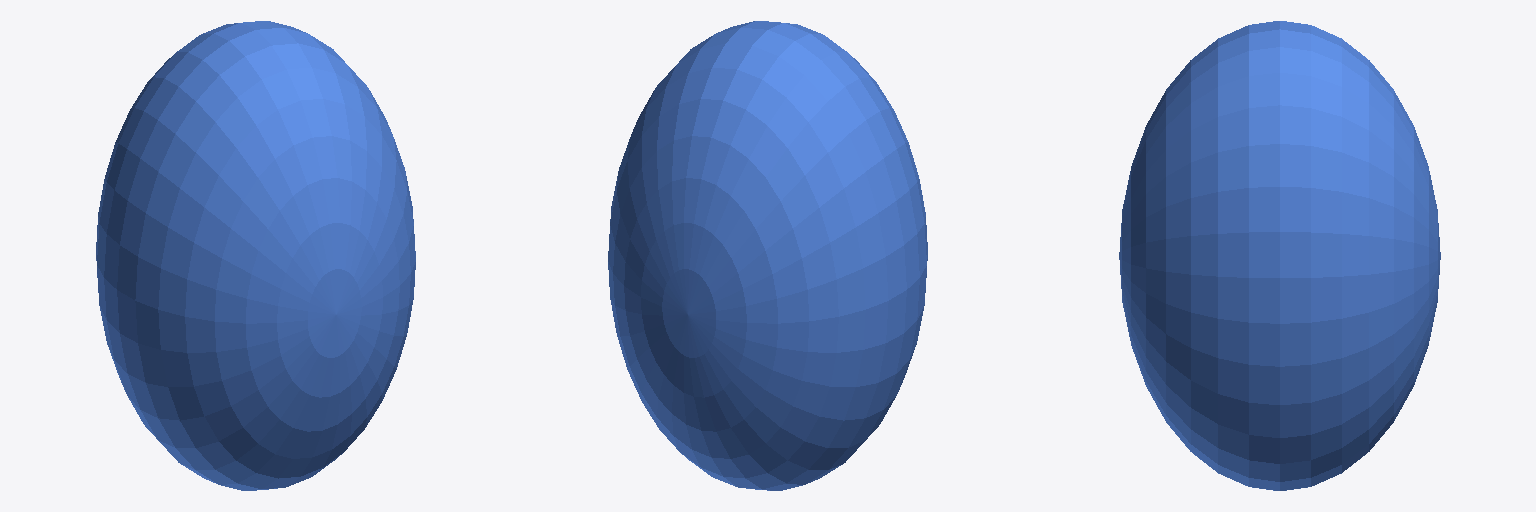
robot.urdf — fr3_link5_1_robot:
<?xml version="0.0" ?>
<robot name="fr3_link5_1_robot">
  <link name="base_link">
    <inertial>
      <origin rpy="0 0 0" xyz="0 0 0"/>
       <mass value=".1"/>
       <inertia ixx="1" ixy="0" ixz="0" iyy="1" iyz="0" izz="1"/>
    </inertial>
    
    <visual>
      <origin rpy="0 0 0" xyz="0 0 0.00"/>
      <geometry>
        <mesh filename="package://meshes/fr3_link5_1_ellipsoid.obj"/>
      </geometry>
      <material name="cornflowerblue">
        <color rgba="0.3921 0.5843 0.9294 0.8"/>
      </material>
    </visual>
  </link>
</robot>

--- What the picture shows (computed from the rendered views, not written in the file) ---
Views: 3 orthographic renders of the robot side by side, from view 1: azimuth 30°, elevation 25°; view 2: azimuth 150°, elevation 25°; view 3: azimuth 270°, elevation 25°.
Model fr3_link5_1_robot with 1 links and 0 joints (none), rooted at base_link, posed every joint at zero.
Links seen in each view (by area): view 1: base_link; view 2: base_link; view 3: base_link.
Link boxes in pixels (<box>): base_link: <box>96,21,415,490</box>; base_link: <box>608,21,927,490</box>; base_link: <box>1119,21,1440,490</box>.
Size in the robot's own frame: 0.18 by 0.18 by 0.28 metres.
Meshes: 1 distinct files referenced, 1 mesh visuals loaded (1 OBJ).